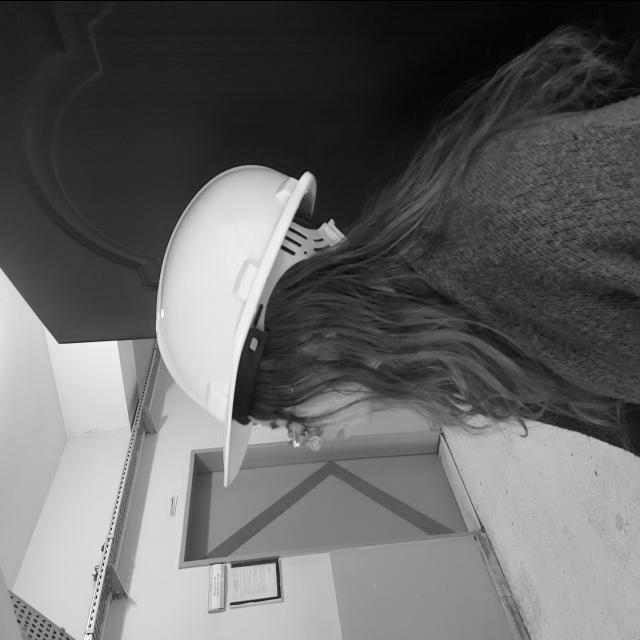construction helmet: (156, 163, 345, 486)
